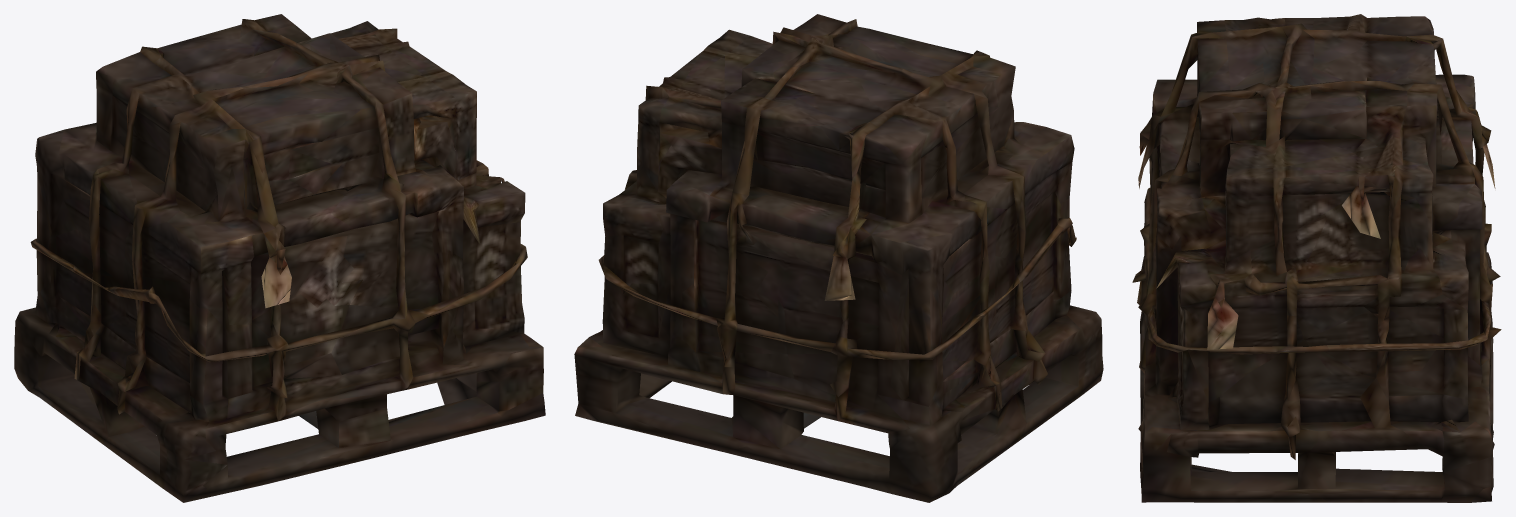
The model's file is crates.glb.
3 renders of one model, left to right at view 1: azimuth 30°, elevation 25°; view 2: azimuth 150°, elevation 25°; view 3: azimuth 270°, elevation 25°, orthographic. The views are drawn at different scales.
Visible parts, largest first — view 1: crates; view 2: crates; view 3: crates.
Part boxes in pixels (x1,y1,x2,y2): crates: [14, 14, 545, 502]; crates: [574, 14, 1103, 502]; crates: [1132, 14, 1501, 502].
Size of the model in its own units: 2 by 1.7 by 1.64.
Materials: 1 (1 with a texture image).
